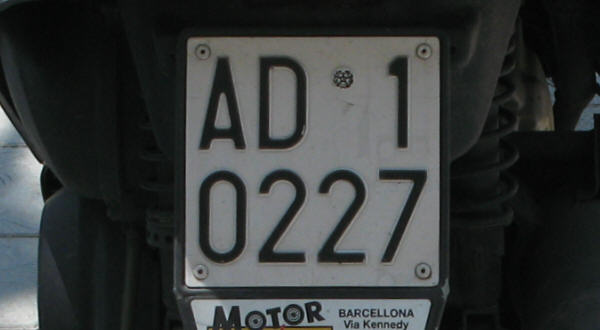license_plate: (183, 34, 440, 289)
